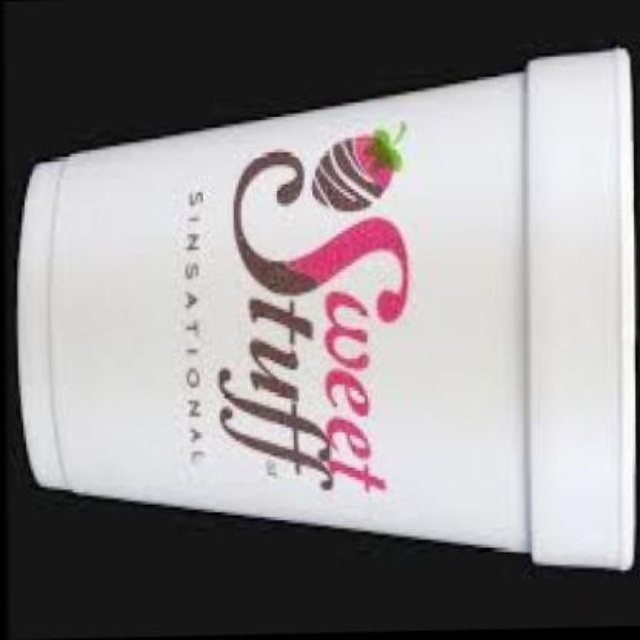trash: (18, 49, 634, 569)
